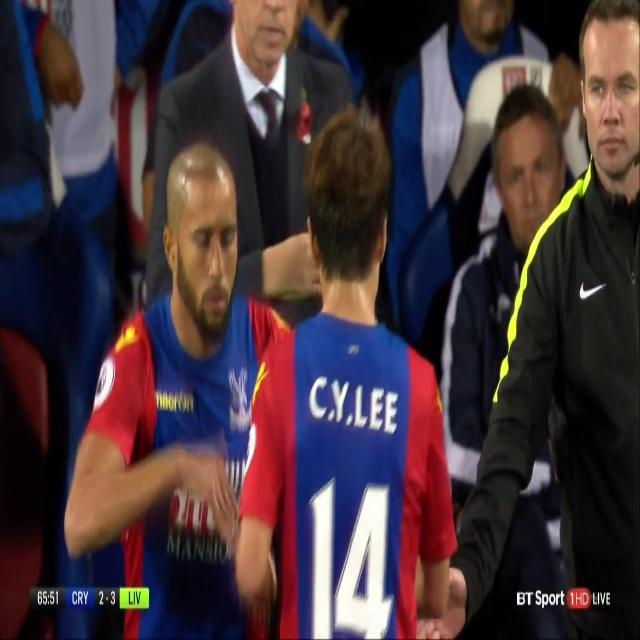Player: (228, 104, 461, 640), (63, 137, 287, 640)
